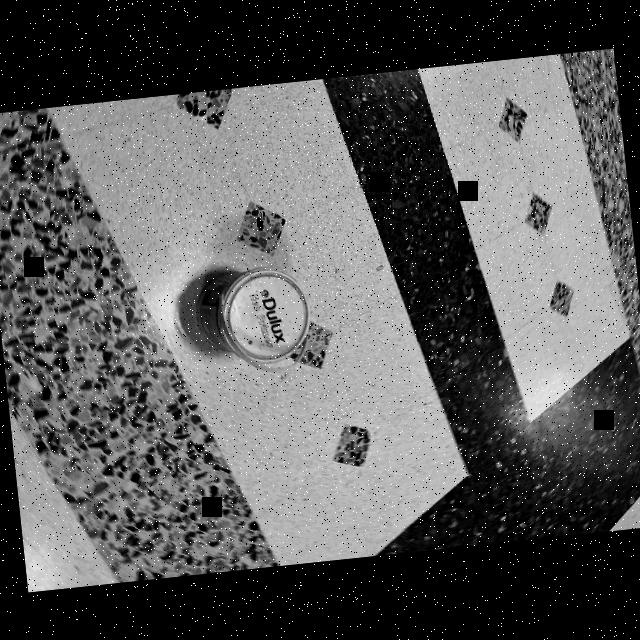paint_bucket: (175, 245, 330, 389)
